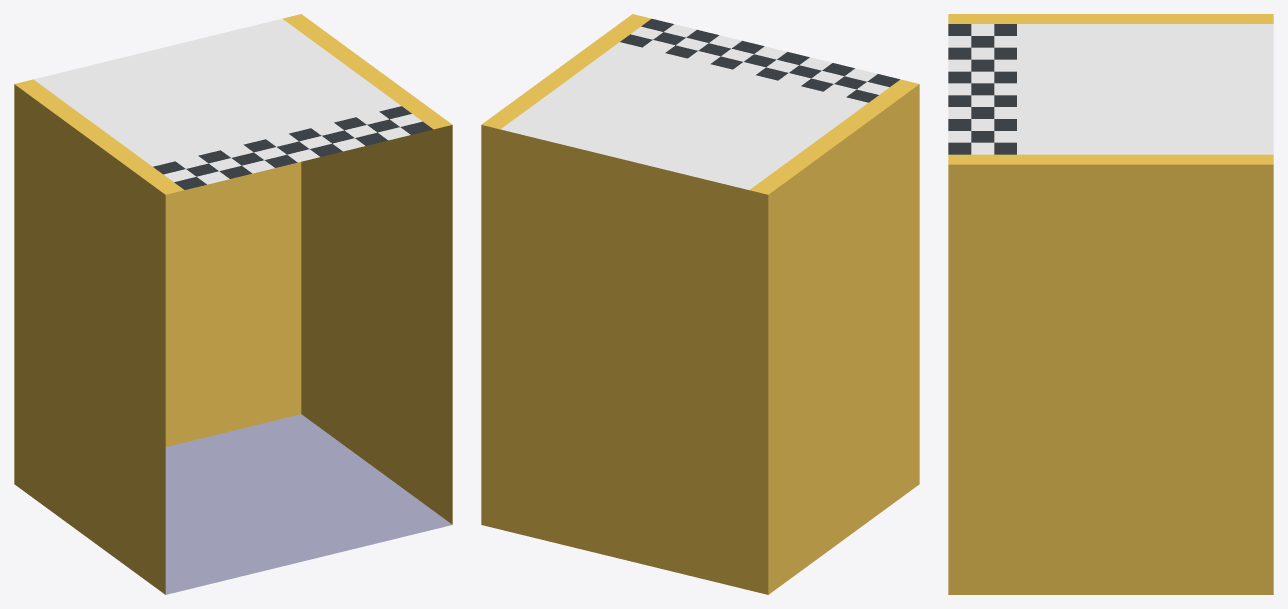
The model's file is Start.fbx.
The picture shows the model from 3 angles, left to right: view 1: azimuth 30°, elevation 25°; view 2: azimuth 150°, elevation 25°; view 3: azimuth 270°, elevation 25°; orthographic projection. The views are drawn at different scales.
Visible parts, largest first — view 1: Cube; view 2: Cube; view 3: Cube.
Boxes of the visible parts, x1,y1,x2,y2 form: Cube: (14,14,452,594); Cube: (481,14,919,594); Cube: (948,14,1273,594).
Bounding box in the file's own units: 468 × 624 × 428.
